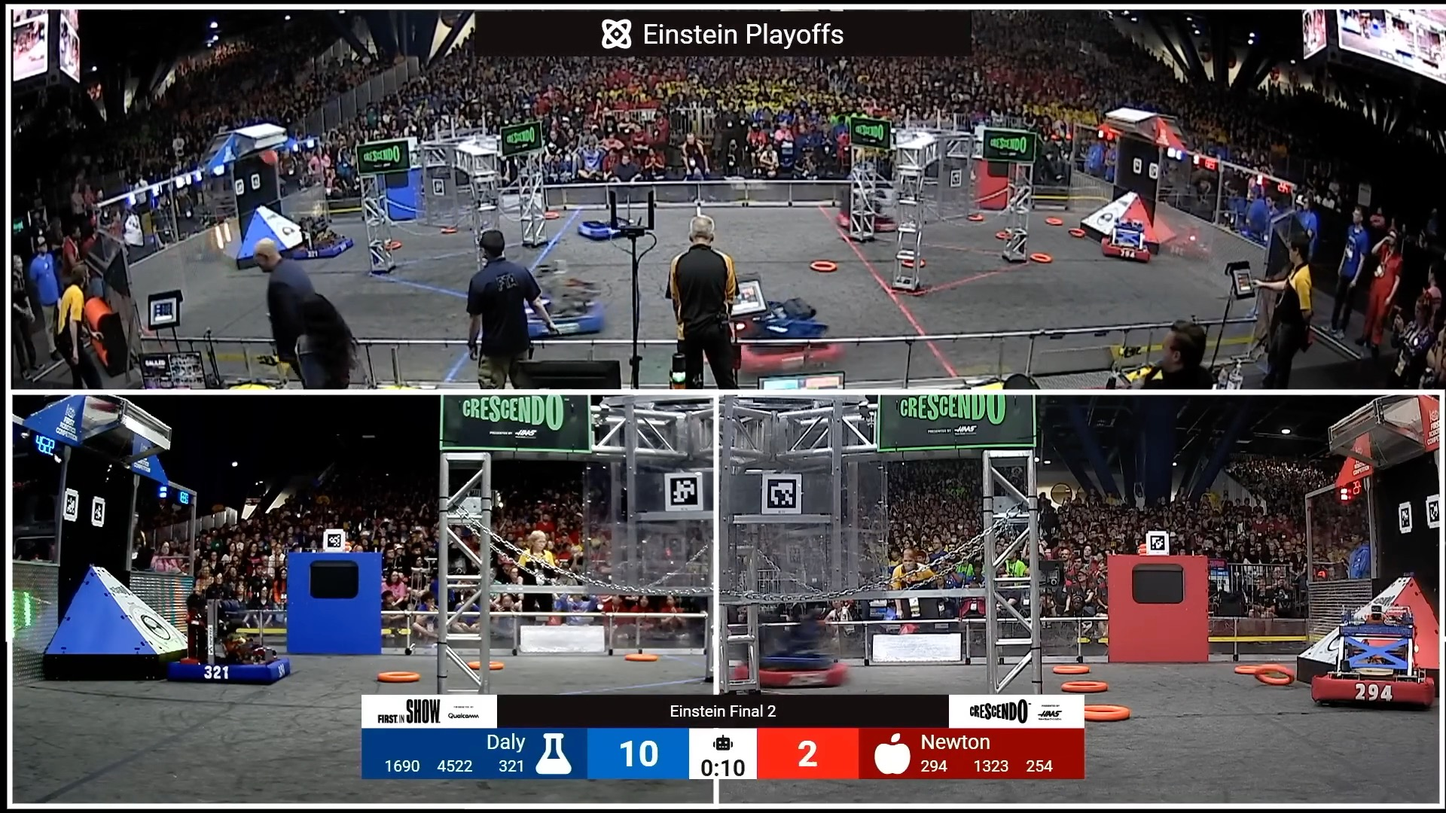bumpers: (728, 310, 854, 381), (521, 288, 617, 347), (167, 650, 304, 691), (1302, 671, 1438, 709), (1086, 222, 1181, 268), (728, 664, 851, 690), (288, 236, 359, 260), (832, 211, 901, 233), (576, 221, 633, 241)
